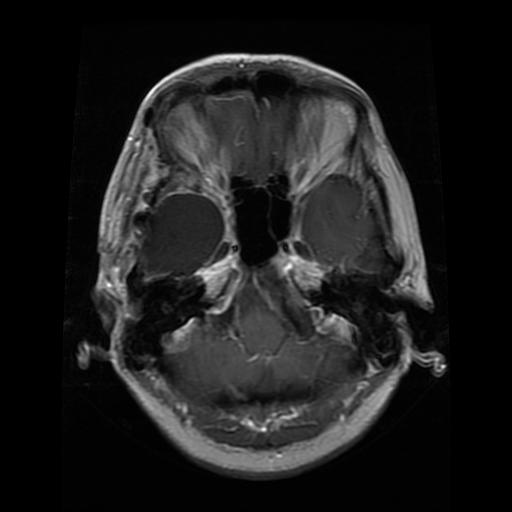Gliomia_tumour: (139, 191, 224, 276)
